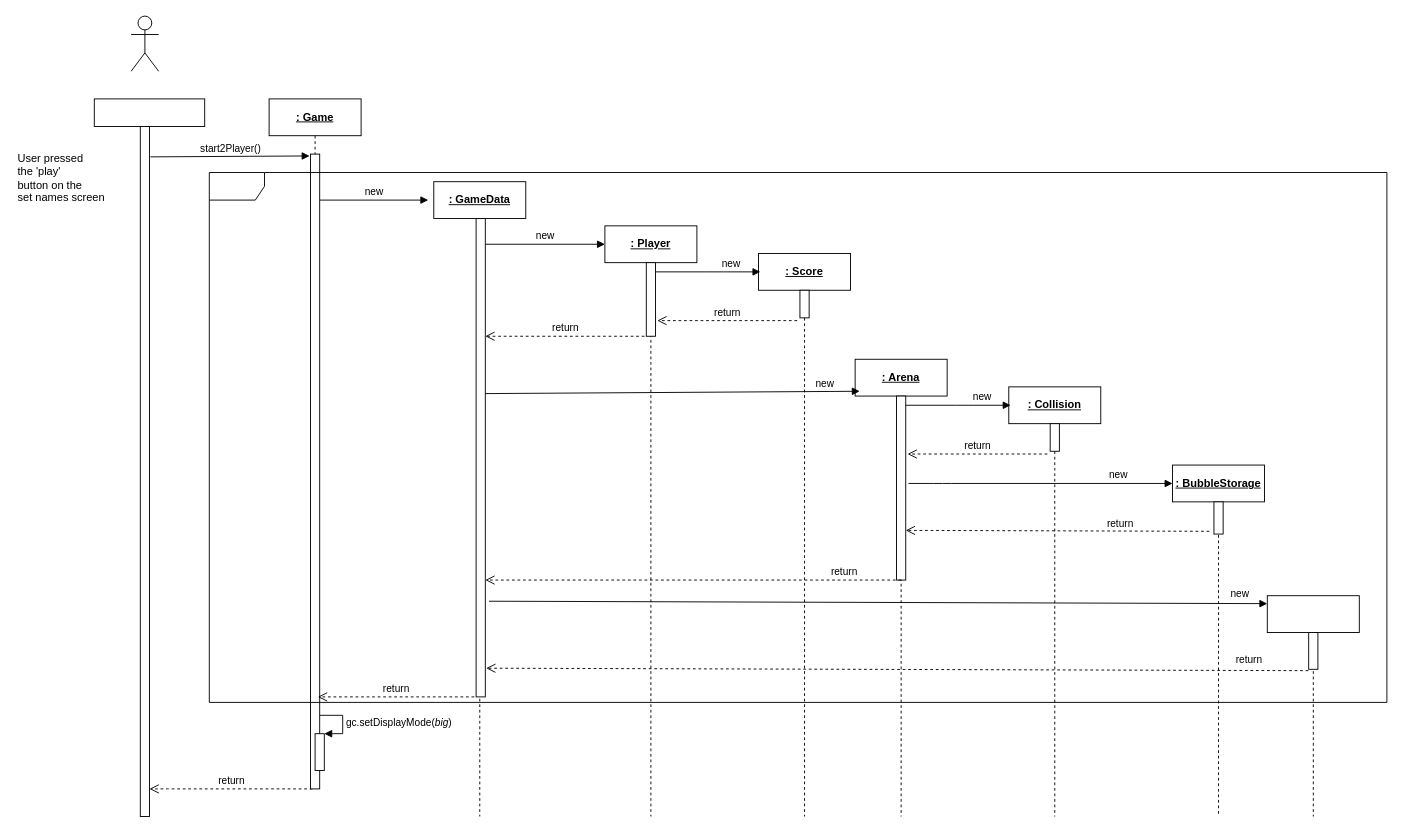
This 1403x833 diagram has some shape labels left out. The box of each missing label's shape, as (x1, y1, x2, y2) in pixels:
: Cannon: (1266, 595, 1359, 816)
: SetNamesScreen: (93, 98, 205, 126)
Actor: (130, 15, 159, 71)
Loop 2x: (208, 172, 1387, 702)
